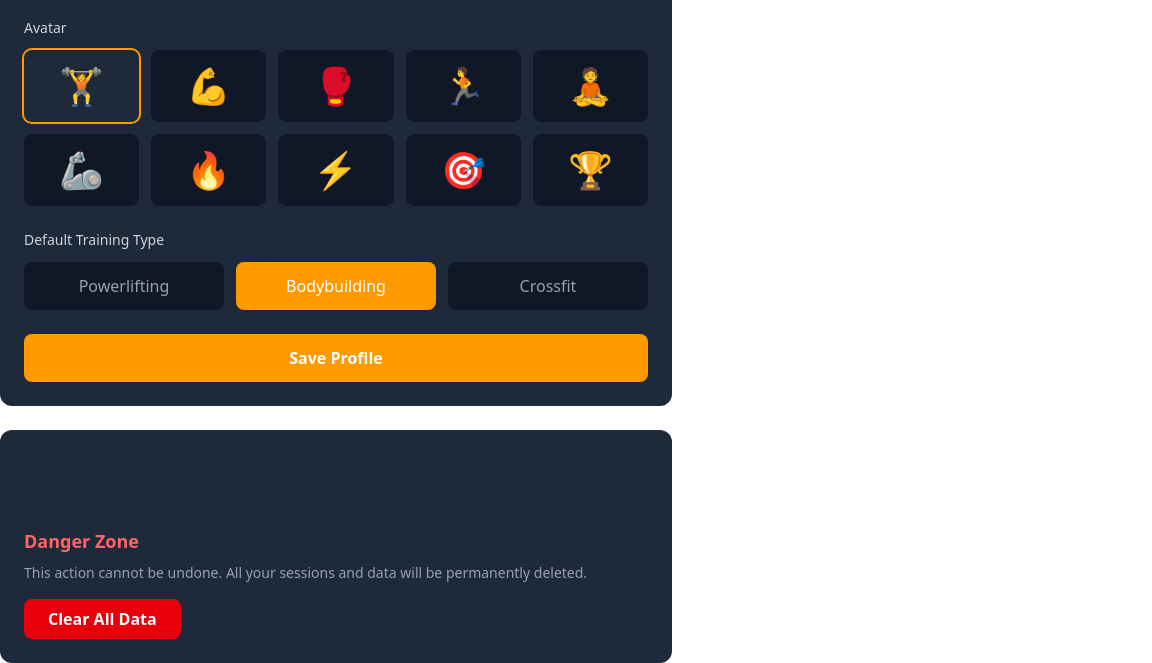
Test case: ProfilePage › cancels data clear when cancel clicked
The width and height of the screenshot is (1152, 663).
(page scrolled)
Click the button "Clear All Data": (102, 619) [24,599,181,639]
(page scrolled)
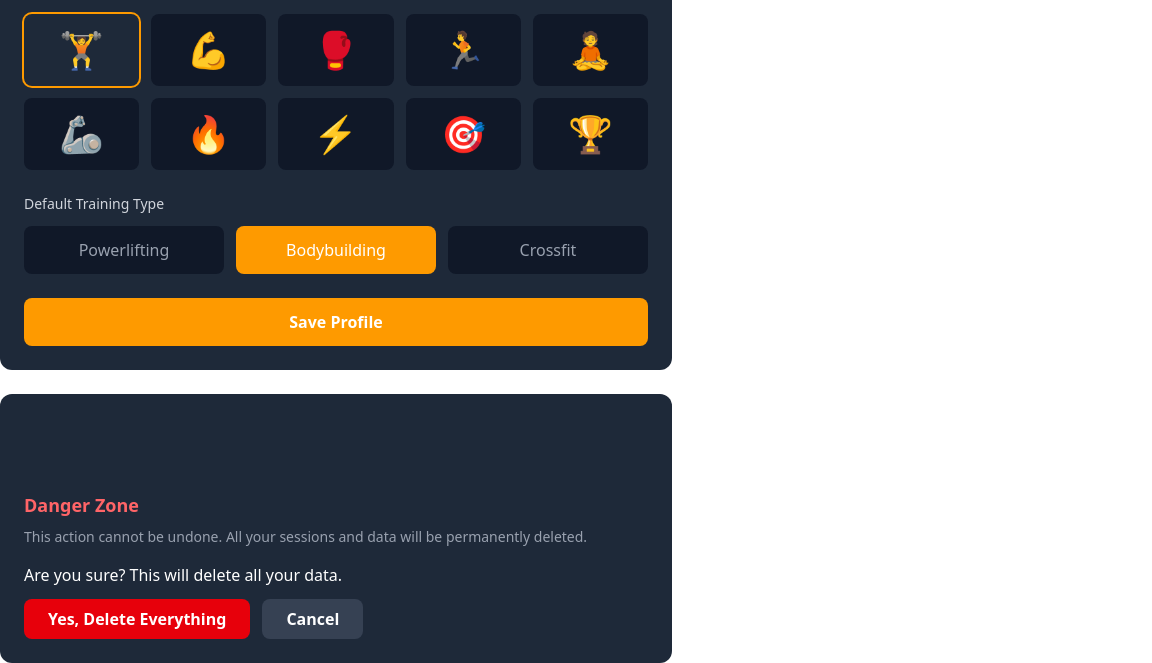
Click the button "Cancel": (313, 619) [262,599,363,639]
(page scrolled)
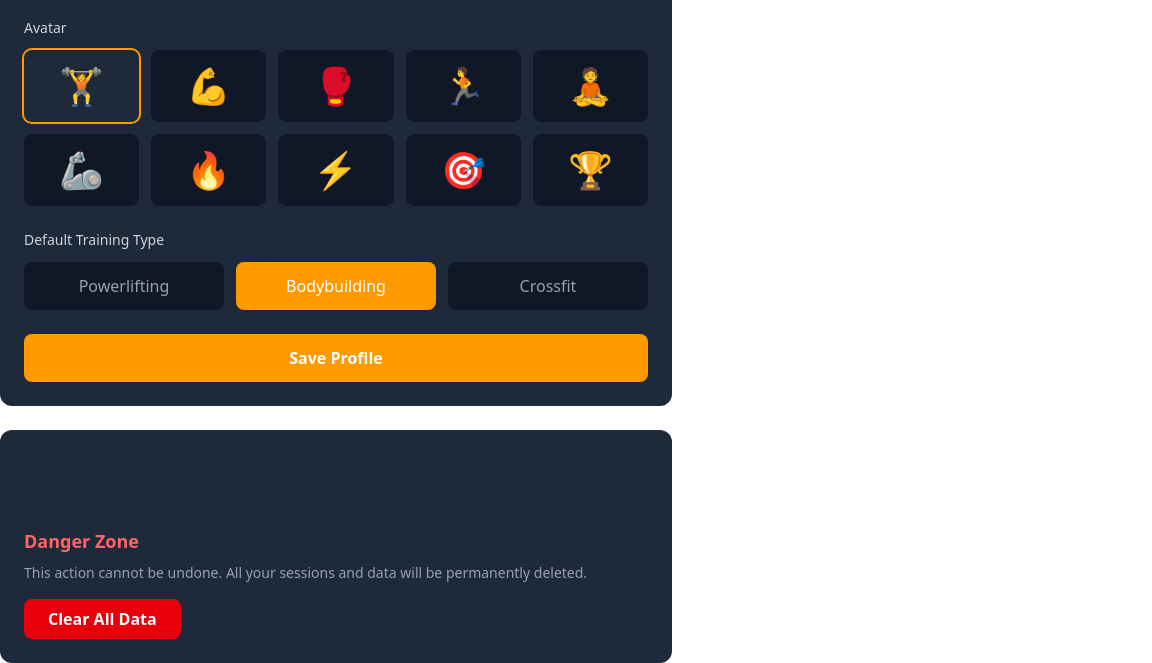
Expected: the text "Are you sure" is gone
